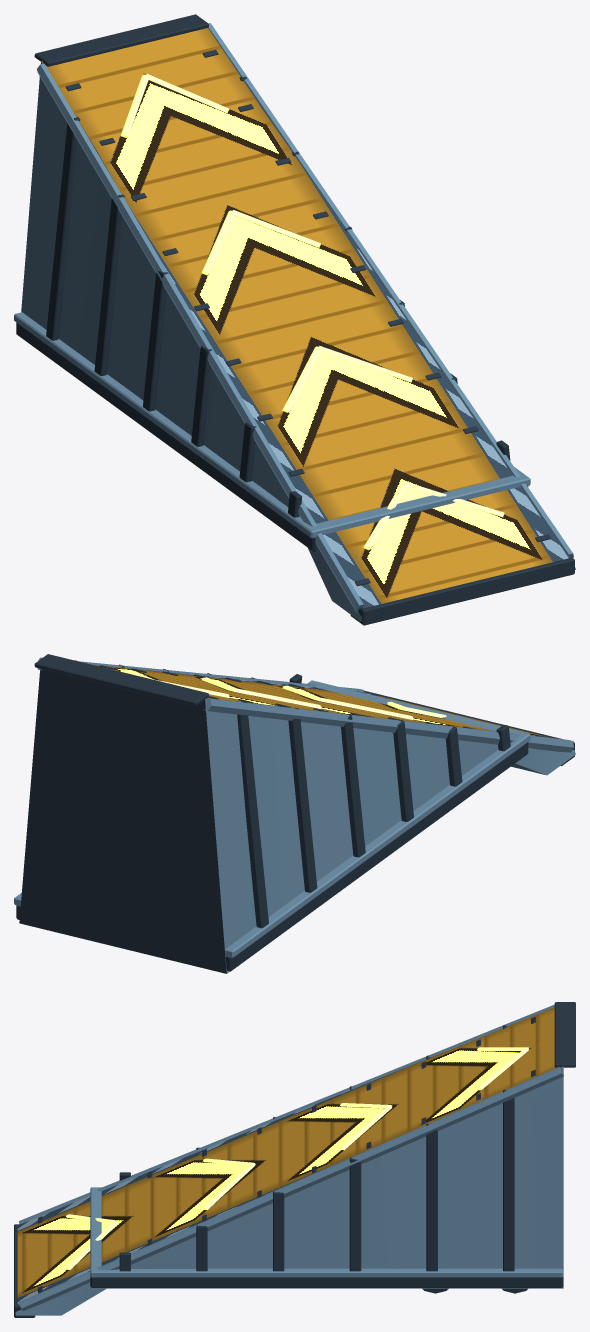
Rendered from rampa_tren.glb.
3 views of the same model, one above another, from view 1: azimuth 30°, elevation 25°; view 2: azimuth 150°, elevation 25°; view 3: azimuth 270°, elevation 25° (orthographic). The views are drawn at different scales.
Visible parts, largest first — view 1: Rampa_Tren; view 2: Rampa_Tren; view 3: Rampa_Tren.
Boxes of the visible parts, <box> form: Rampa_Tren: <box>14,14,575,625</box>; Rampa_Tren: <box>14,654,575,973</box>; Rampa_Tren: <box>14,1002,575,1317</box>.
Bounding box in the file's own units: 2.28 × 3.05 × 6.36.
Materials: 4 (1 with a texture image).
